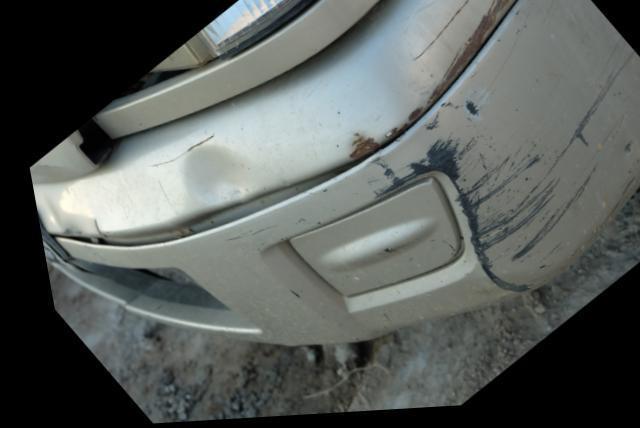dent: (177, 146, 266, 212)
scratch: (356, 0, 640, 302), (337, 0, 526, 168)
